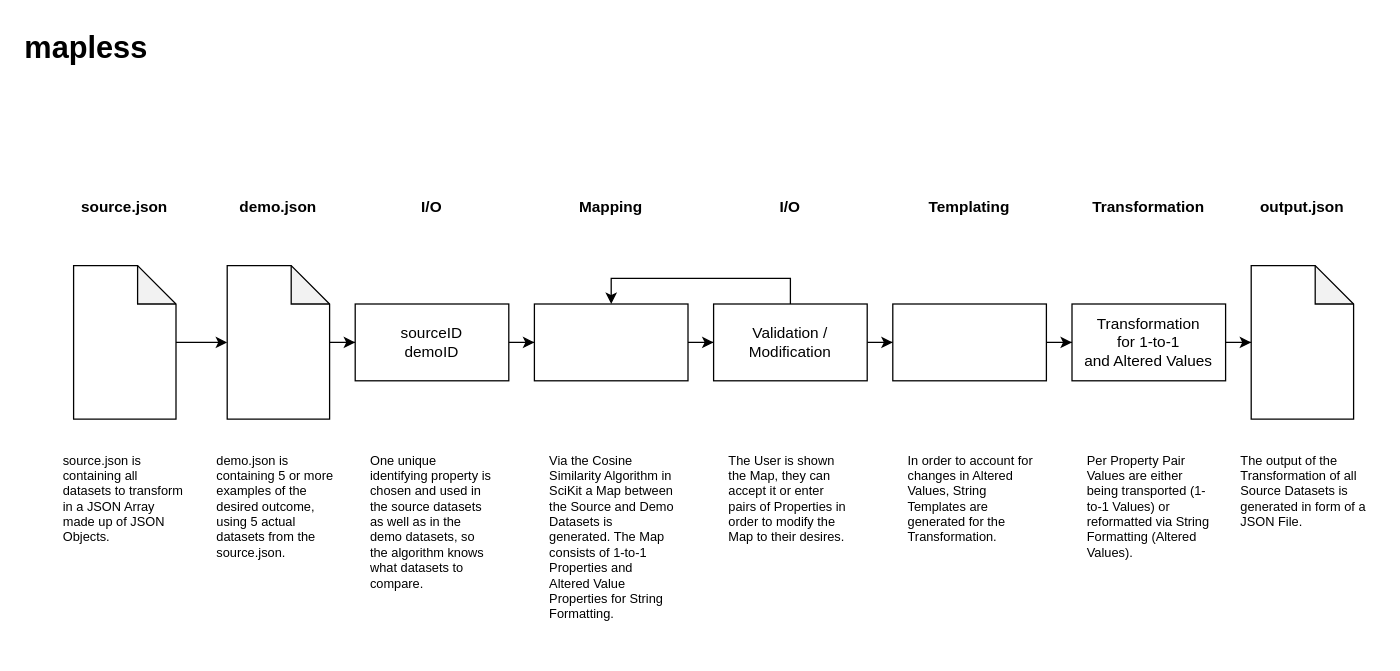
Image size: 1400x671. Some labels were removed from this diagram. Here are the shapes that lost their labels. From the top down, the centre of each, then its label:
At (610,342): "SciKit: Cosine Similarity".
At (969,342): "String Templates for Formatting".
